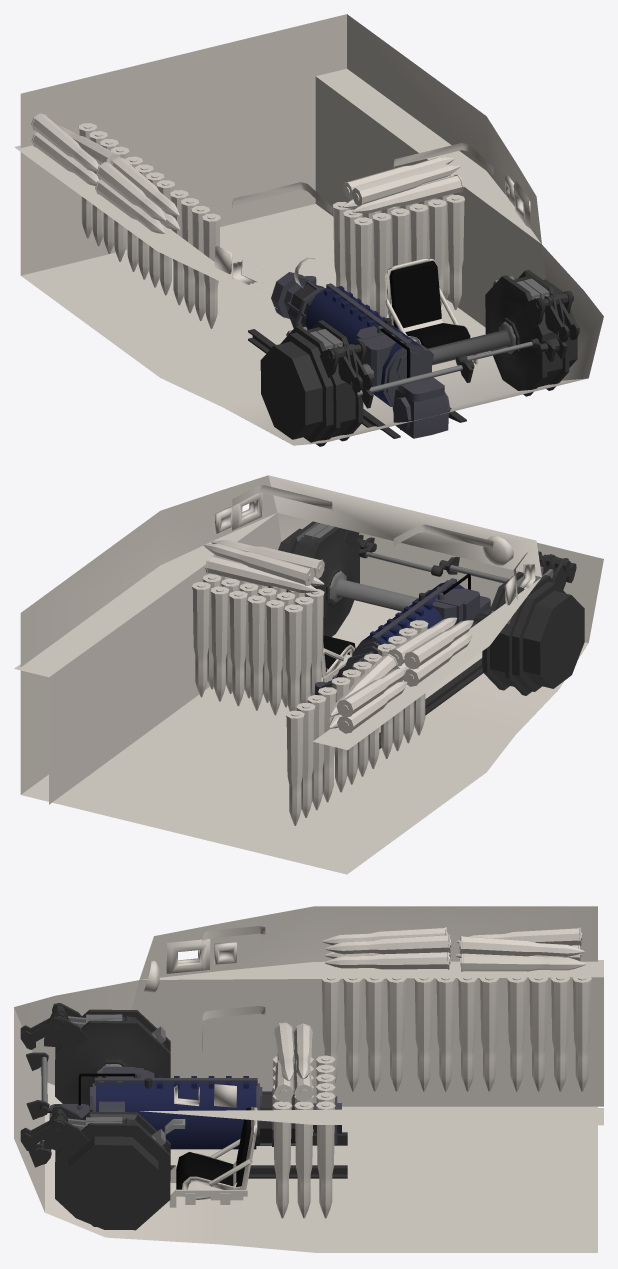
File: front_details.glb
The picture shows the model from 3 angles, top to bottom: view 1: azimuth 30°, elevation 25°; view 2: azimuth 150°, elevation 25°; view 3: azimuth 270°, elevation 25°; orthographic projection.
Visible parts, largest first — view 1: hull_int_remake, hull_back, Mesh (3).001, Mesh, shells horizontal, shells in the front, shells in the back, Mesh (2), Mesh (3).002; view 2: hull_int_remake, Mesh (3).001, shells in the front, shells horizontal, shells in the back, Mesh, Mesh (3).002, Mesh (2); view 3: hull_int_remake, Mesh (3).001, shells in the back, shells horizontal, Mesh, shells in the front, Mesh (2), Mesh (3).002.
Part boxes in pixels (bbox=[...]): hull_int_remake: bbox=[14, 14, 603, 445]; hull_back: bbox=[20, 14, 346, 275]; Mesh (3).001: bbox=[260, 270, 579, 446]; Mesh: bbox=[248, 272, 466, 438]; shells horizontal: bbox=[31, 113, 463, 233]; shells in the front: bbox=[332, 194, 464, 317]; shells in the back: bbox=[78, 123, 220, 328]; Mesh (2): bbox=[385, 258, 477, 364]; Mesh (3).002: bbox=[354, 337, 567, 408]; hull_int_remake: bbox=[14, 475, 603, 874]; Mesh (3).001: bbox=[268, 521, 584, 695]; shells in the front: bbox=[192, 574, 324, 715]; shells horizontal: bbox=[203, 540, 473, 733]; shells in the back: bbox=[286, 620, 428, 825]; Mesh: bbox=[315, 573, 490, 748]; Mesh (3).002: bbox=[357, 534, 508, 583]; Mesh (2): bbox=[321, 635, 355, 682]; hull_int_remake: bbox=[14, 906, 603, 1252]; Mesh (3).001: bbox=[20, 1003, 170, 1230]; shells in the back: bbox=[321, 974, 591, 1091]; shells horizontal: bbox=[274, 927, 585, 1102]; Mesh: bbox=[49, 1067, 347, 1178]; shells in the front: bbox=[272, 1055, 335, 1218]; Mesh (2): bbox=[169, 1107, 257, 1207]; Mesh (3).002: bbox=[26, 1052, 60, 1167].
Bounding box in the file's own units: 2.34 × 1.24 × 3.53.
